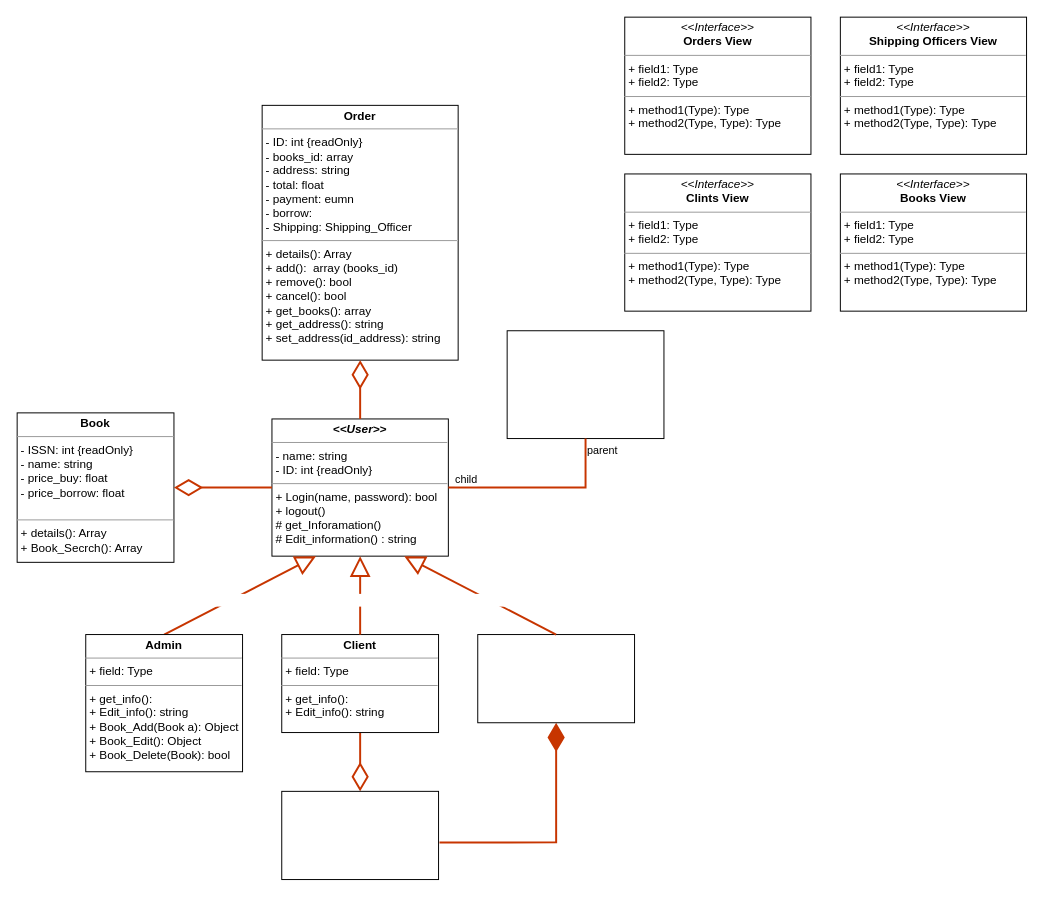
The diagram is 1044 pixels wide and 897 high, and some of its shapes have lost their labels. Each missing label, with the centre of its shape:
Database - db: - connect(): bool + execution(): bool + execution_get(): array: the point at 585,384
Shipping + field: Type + method(): Type: the point at 360,835
Shipping_Officer + field: Type + get(): + Edit(): string: the point at 556,678
